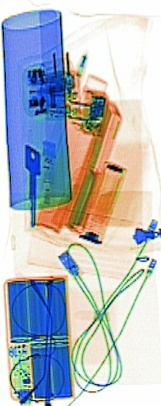powerbank: (1, 270, 74, 402)
